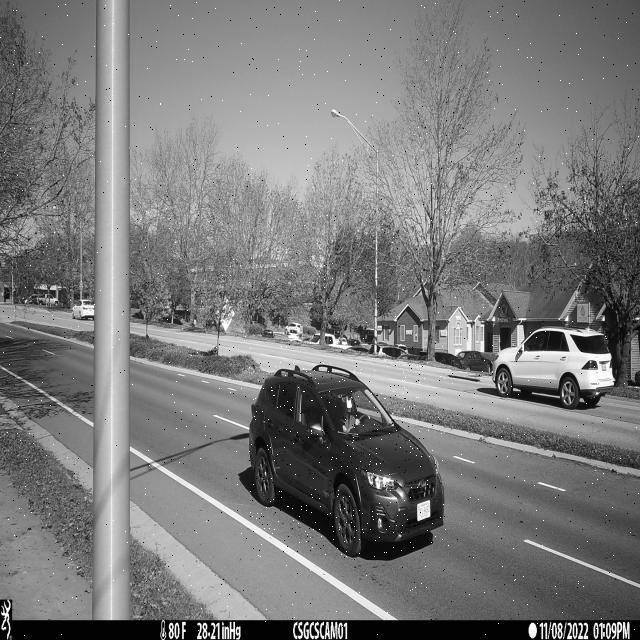SUV: (249, 362, 444, 557)
